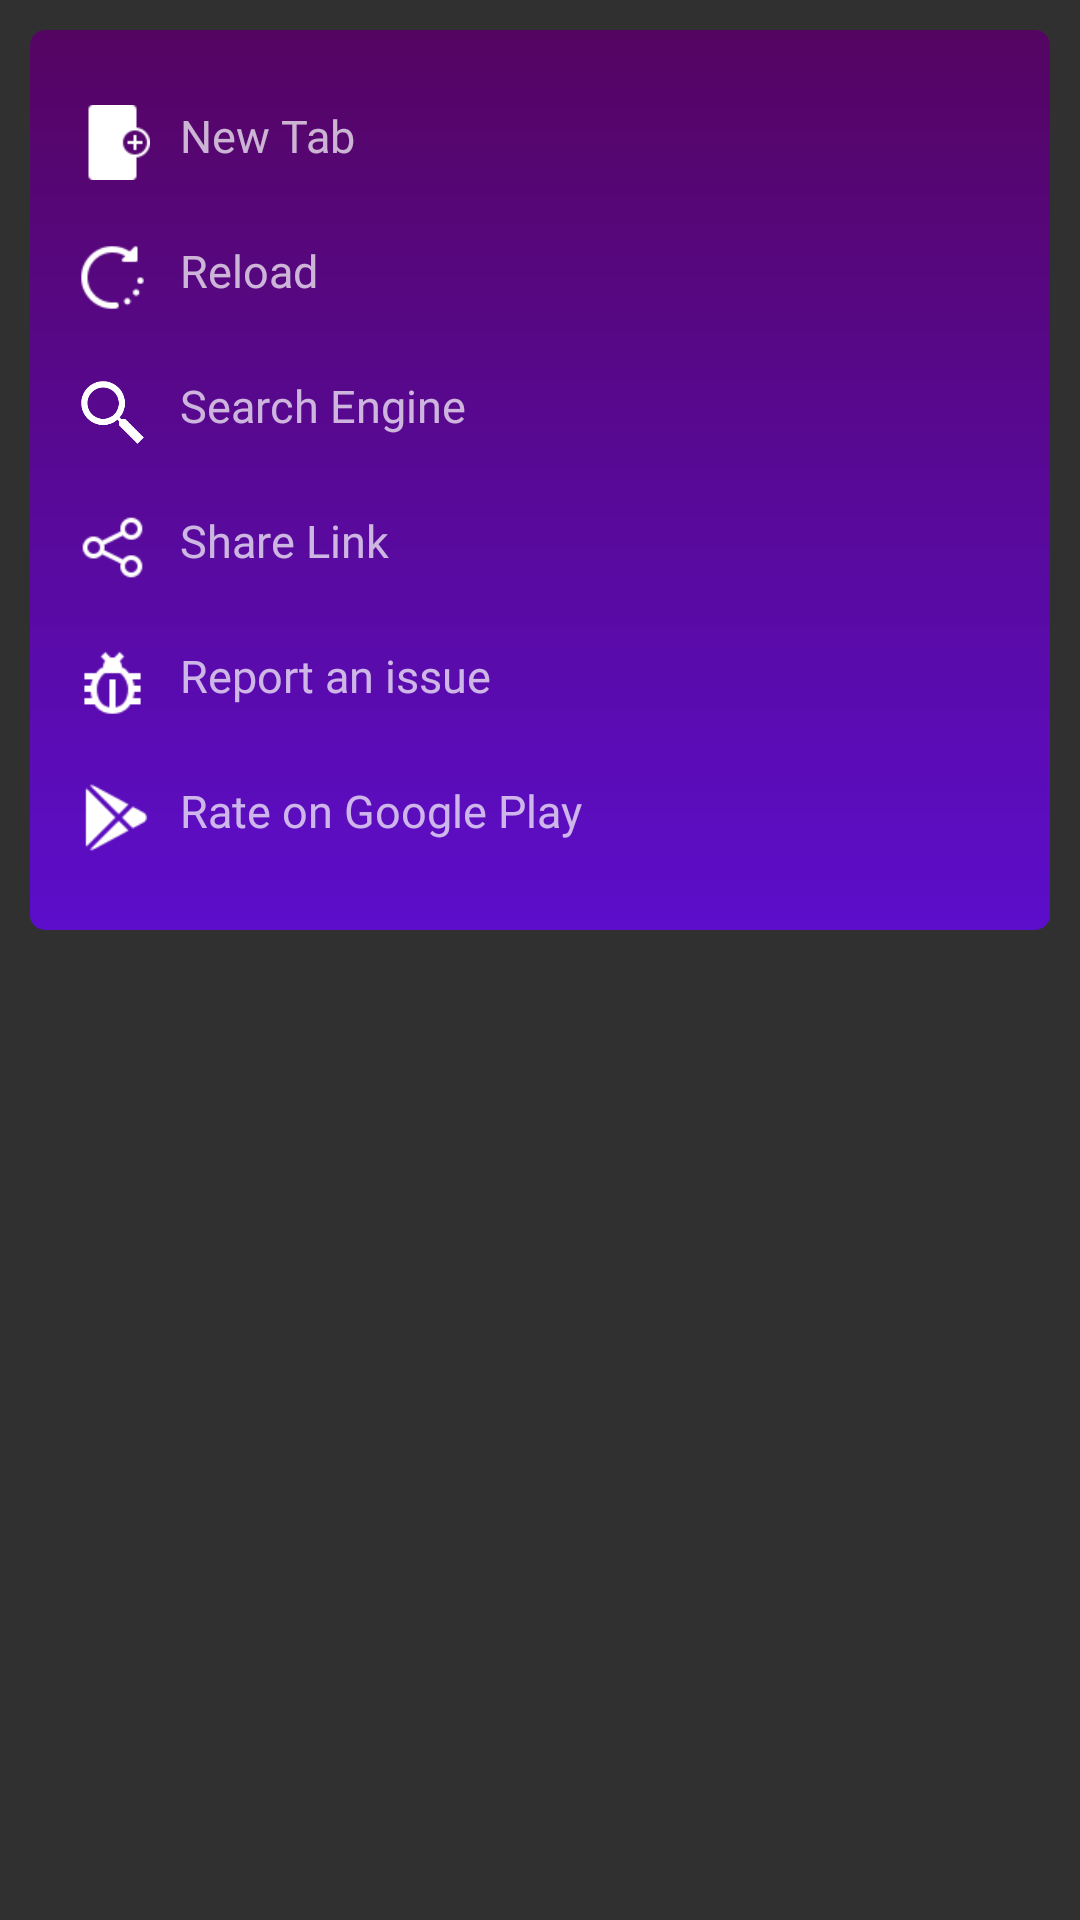

Icons on this 1080*1920 Android screen, each with its box as (x1, y1, x2, y2):
add tab: (88, 105, 150, 180)
bugs: (84, 651, 141, 714)
